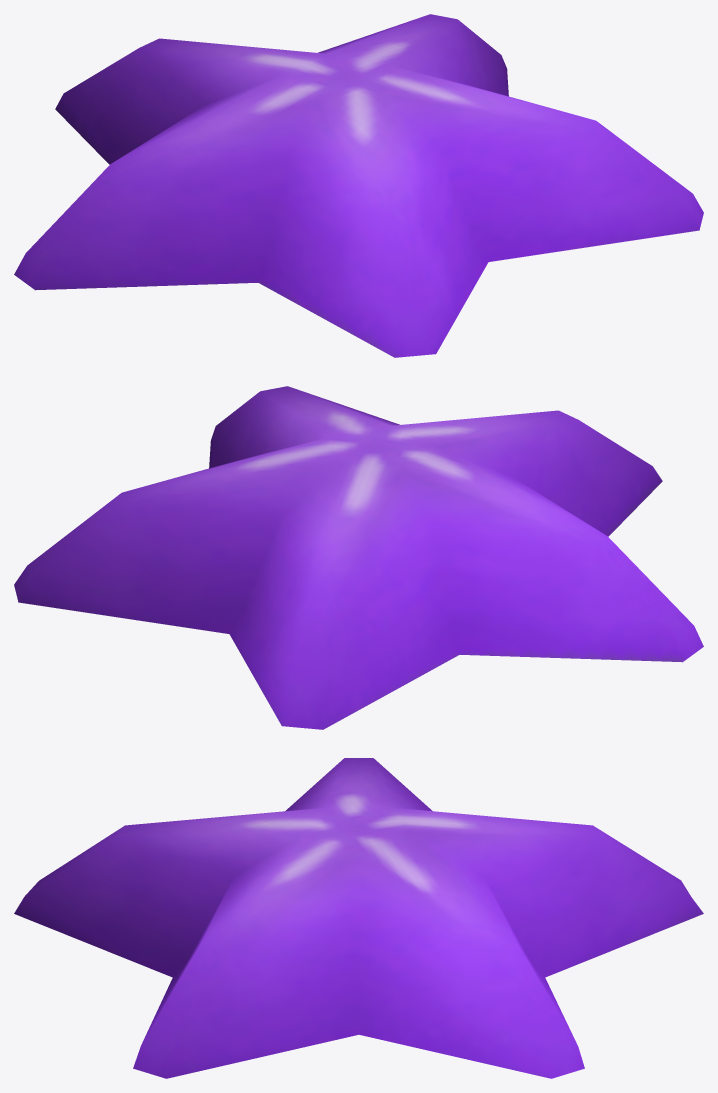
The model's file is Beach_star_03.fbx.
The picture shows the model from 3 angles, top to bottom: view 1: azimuth 30°, elevation 25°; view 2: azimuth 150°, elevation 25°; view 3: azimuth 270°, elevation 25°; orthographic projection. The views are drawn at different scales.
Visible parts, largest first — view 1: Beach_star_03; view 2: Beach_star_03; view 3: Beach_star_03.
Part boxes in pixels (x1,y1,x2,y2): Beach_star_03: [14, 14, 703, 357]; Beach_star_03: [14, 386, 703, 729]; Beach_star_03: [14, 758, 703, 1078].
Size of the model in its own units: 49.18 by 10.36 by 51.71.
